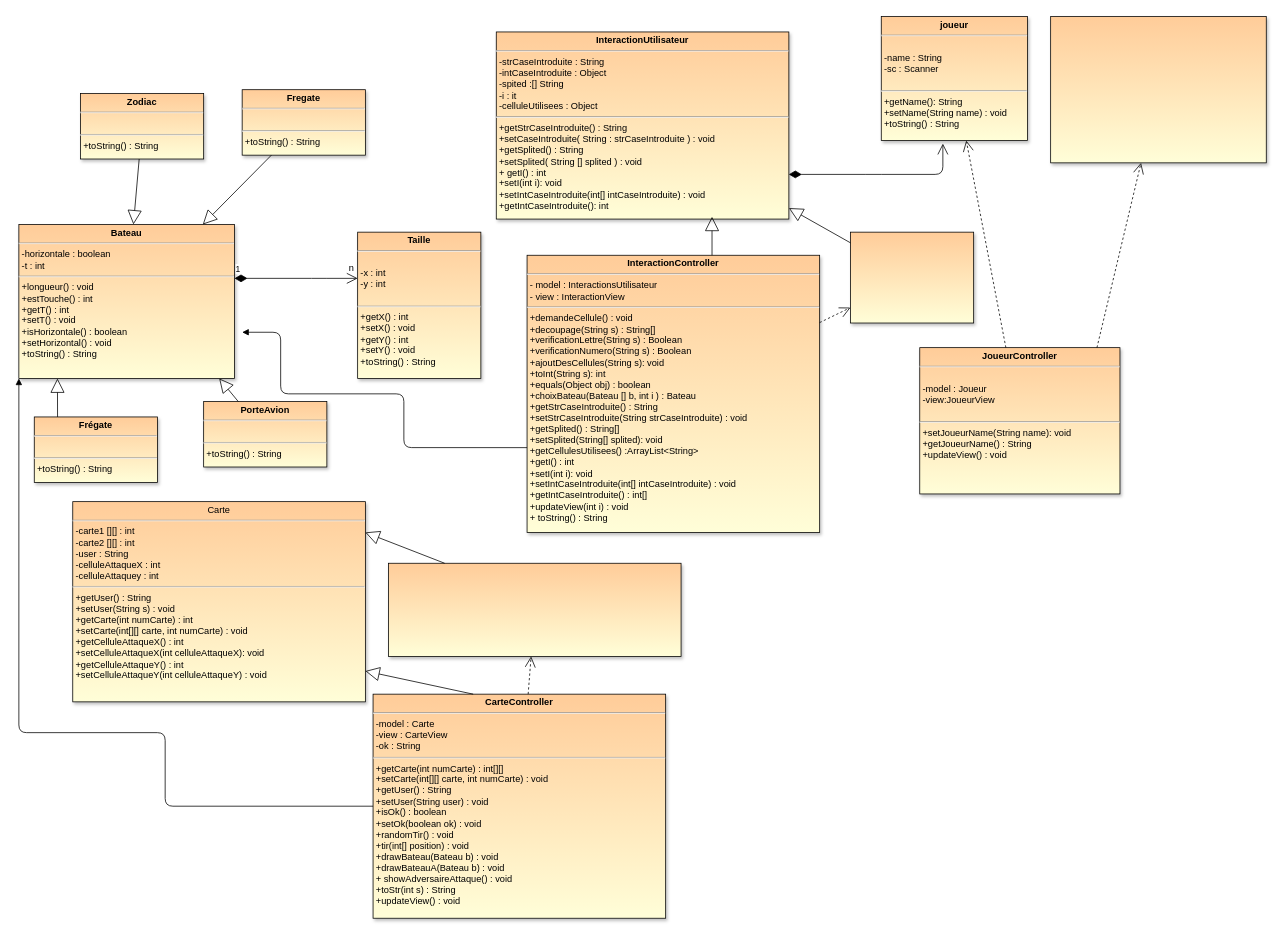
Image size: 1284x937. Some labels were removed from this diagram. The centre of each missing label's shape, as x and y in pixels:
CarteView +afficherCarte(int[][] carte1, int[][] carte2, String user ) : void: [535,610]
InteractionView +afficherInstruction(int i) : void: [912,278]
JoueurView +printJoueurDetails(String nomJoueur): int: [1159,90]
